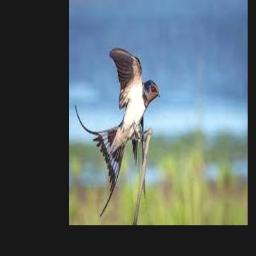Swallow: (75, 48, 159, 219)
